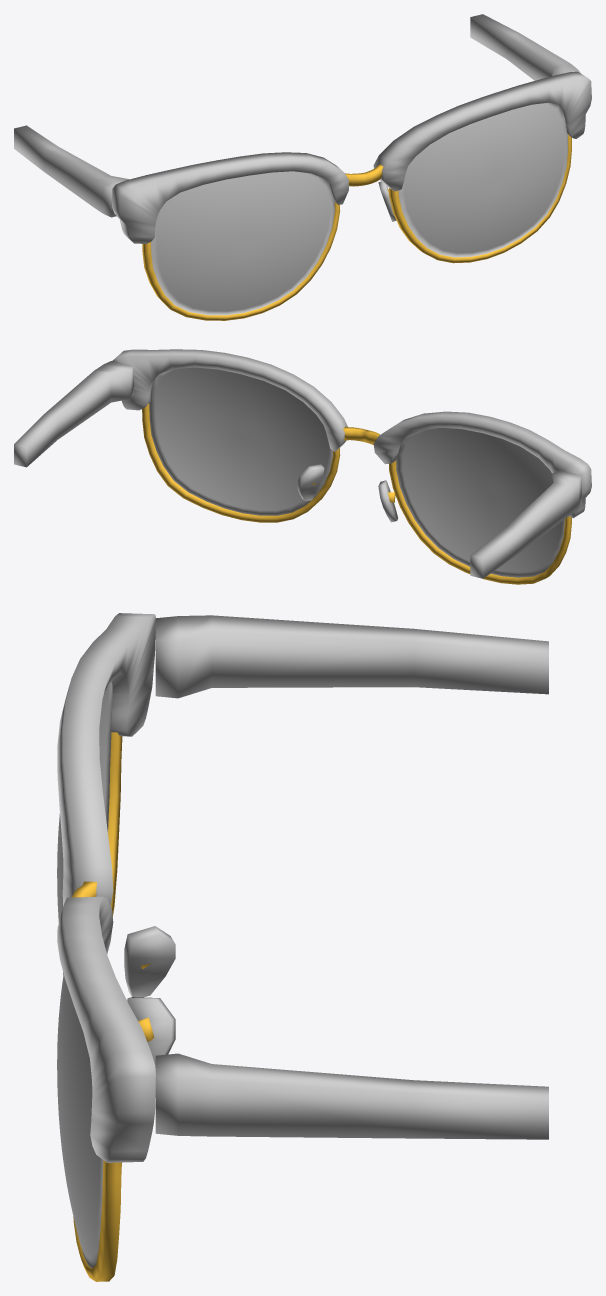
The model's file is glasses_new.obj.
The picture shows the model from 3 angles, top to bottom: view 1: azimuth 30°, elevation 25°; view 2: azimuth 150°, elevation 25°; view 3: azimuth 270°, elevation 25°; orthographic projection. The views are drawn at different scales.
Parts seen in each view (by area): view 1: front_lens_Circle.004, front_black_Circle.003, back_Cube, front_gold_Circle.001; view 2: front_lens_Circle.004, front_black_Circle.003, back_Cube, front_gold_Circle.001, front_nose_Circle.005; view 3: back_Cube, front_black_Circle.003, front_lens_Circle.004, front_gold_Circle.001, front_nose_Circle.005.
Boxes of the visible parts, left/top/right/bottom form: front_lens_Circle.004: left=151, top=102, right=567, bottom=315; front_black_Circle.003: left=112, top=71, right=591, bottom=243; back_Cube: left=14, top=14, right=580, bottom=217; front_gold_Circle.001: left=142, top=134, right=571, bottom=320; front_lens_Circle.004: left=149, top=367, right=564, bottom=577; front_black_Circle.003: left=112, top=349, right=591, bottom=518; back_Cube: left=14, top=361, right=581, bottom=578; front_gold_Circle.001: left=142, top=403, right=571, bottom=584; front_nose_Circle.005: left=297, top=464, right=398, bottom=522; back_Cube: left=155, top=615, right=548, bottom=1139; front_black_Circle.003: left=57, top=613, right=155, bottom=1162; front_lens_Circle.004: left=57, top=682, right=112, bottom=1268; front_gold_Circle.001: left=72, top=732, right=154, bottom=1281; front_nose_Circle.005: left=124, top=926, right=175, bottom=1067.
Size of the model in its own units: 5.48 by 1.74 by 2.45.
